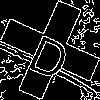D: (25, 25, 77, 82)
